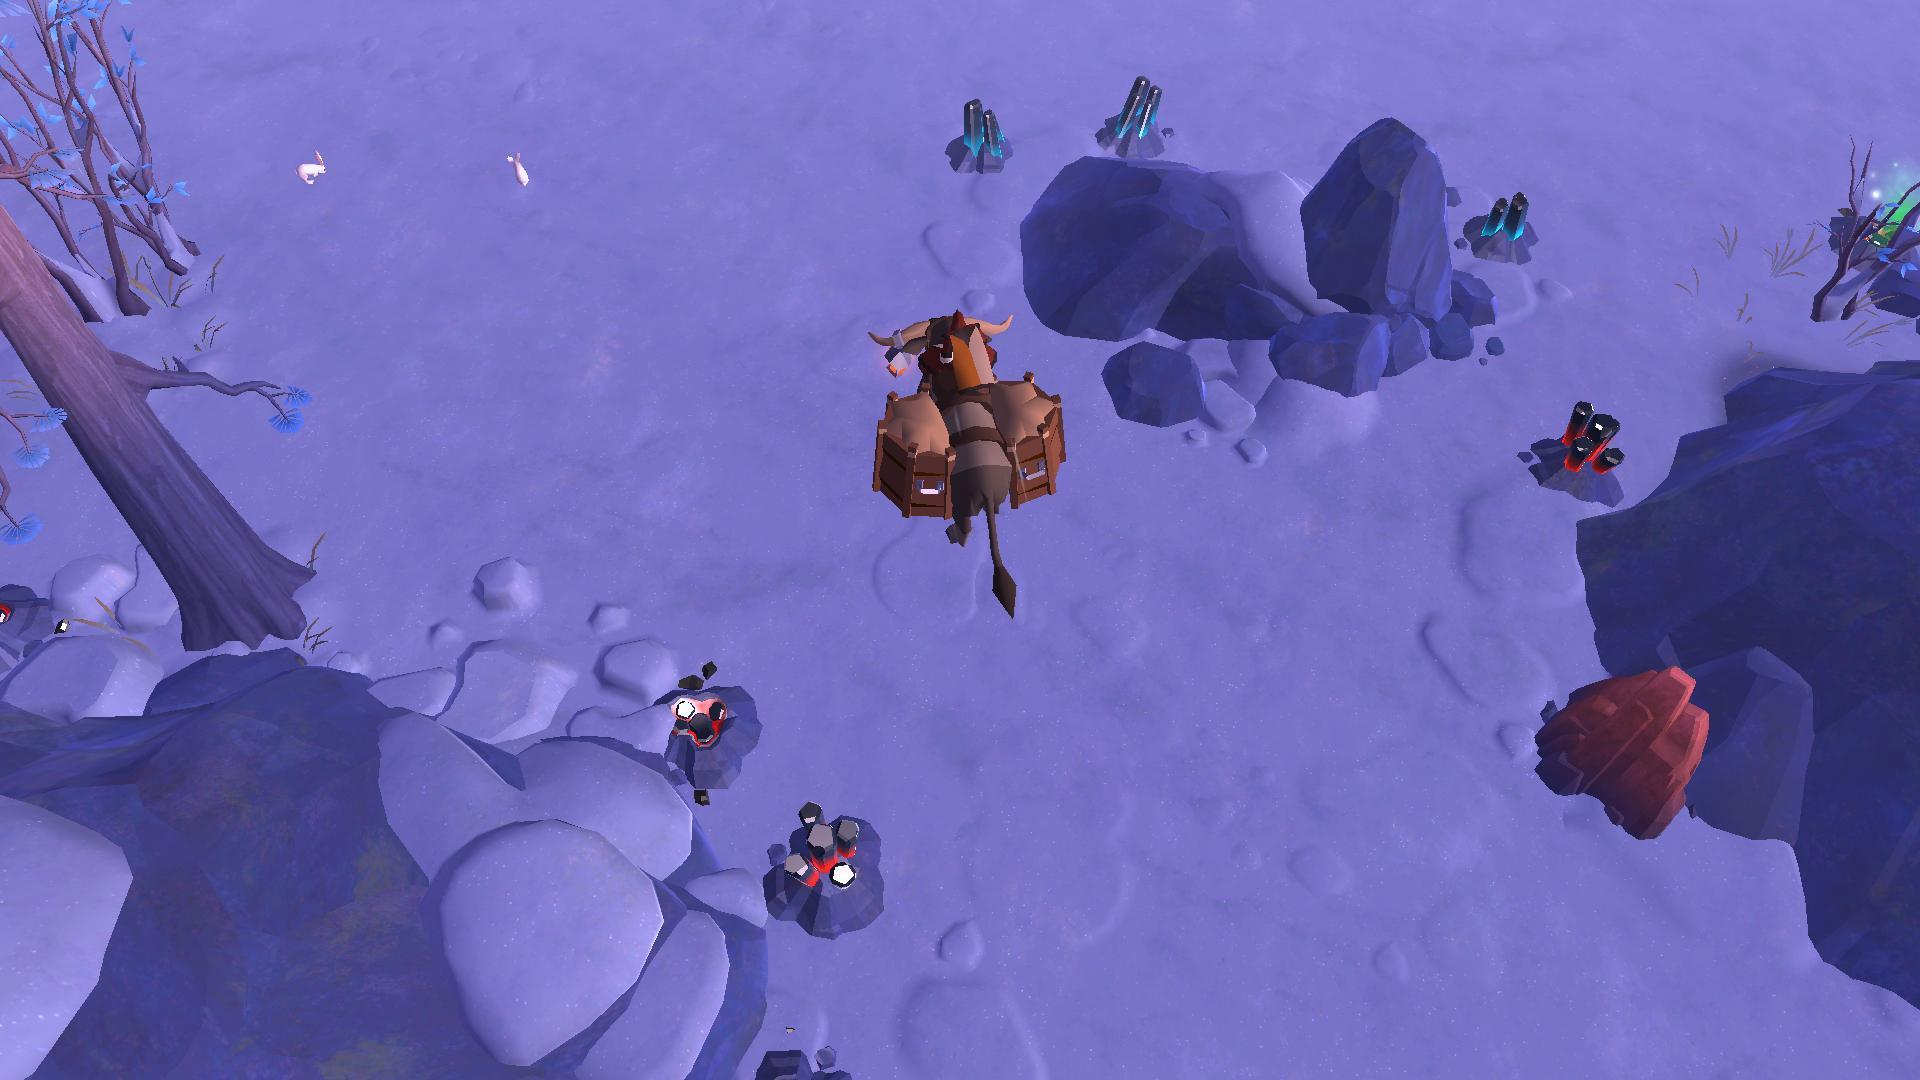ore_t4: (1110, 70, 1164, 152), (959, 92, 1006, 160), (1481, 187, 1531, 248)
ore_t5: (775, 802, 873, 903), (1556, 396, 1627, 475)
rock_t5: (1531, 653, 1714, 845)
